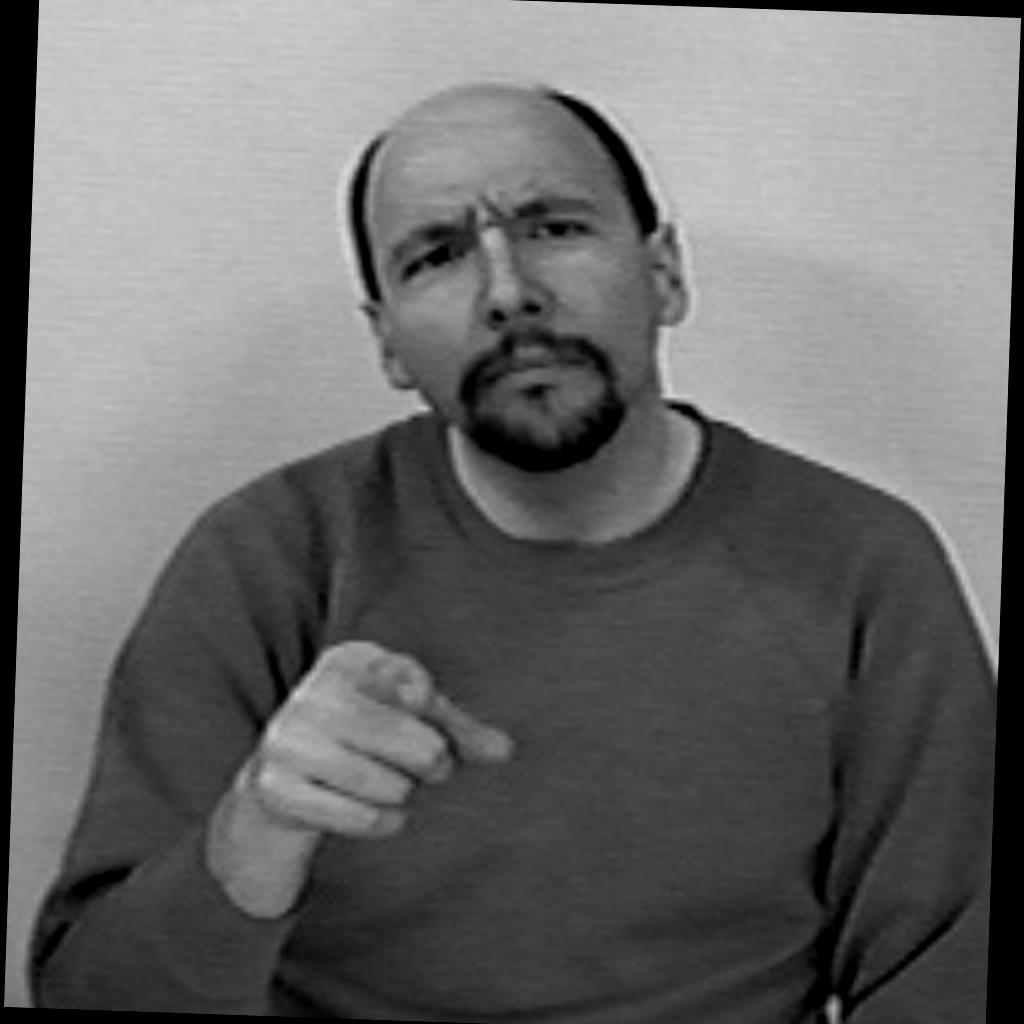you: (256, 638, 520, 842)
